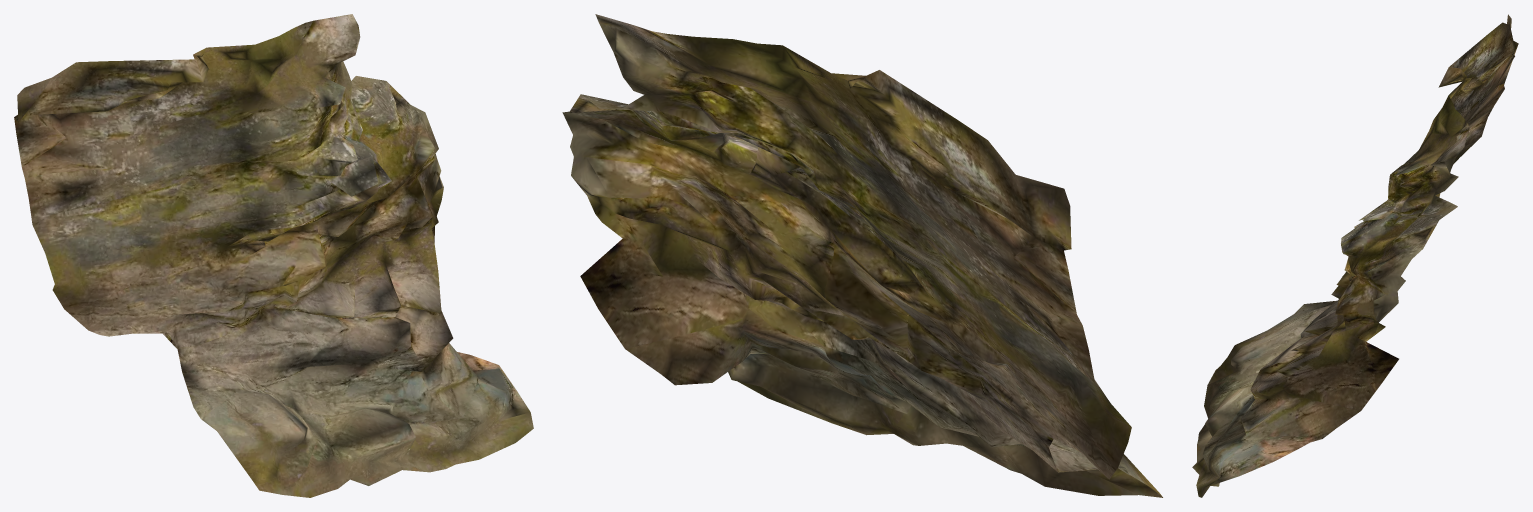
Rendered from rock_face_2.glb.
The picture shows the model from 3 angles, left to right: view 1: azimuth 30°, elevation 25°; view 2: azimuth 150°, elevation 25°; view 3: azimuth 270°, elevation 25°; orthographic projection. The views are drawn at different scales.
Visible parts, largest first — view 1: rock_face_02; view 2: rock_face_02; view 3: rock_face_02.
Boxes of the visible parts, x1,y1,x2,y2 form: rock_face_02: [14, 14, 533, 497]; rock_face_02: [562, 14, 1162, 497]; rock_face_02: [1192, 14, 1518, 497].
Size of the model in its own units: 2.71 by 2.47 by 2.13.
Materials: 1 (1 with a texture image).
